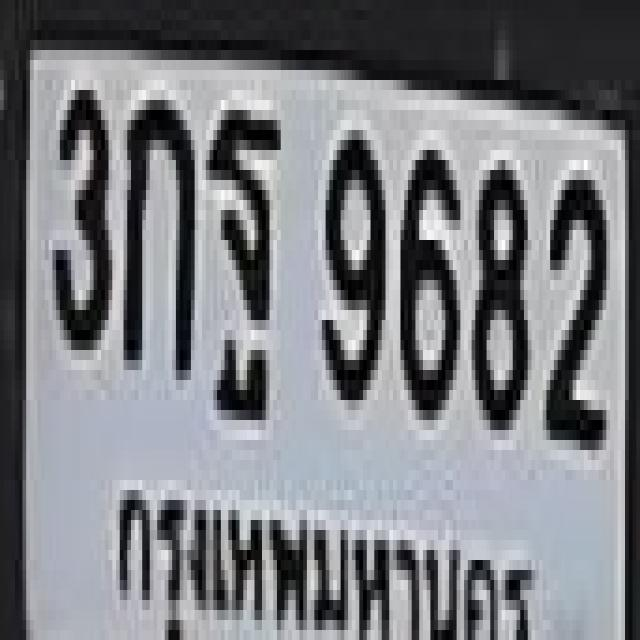-: (120, 90, 191, 370), (206, 100, 277, 380)
2: (542, 170, 602, 440)
3: (48, 80, 108, 340)
6: (396, 140, 456, 410)
8: (472, 150, 524, 420)
9: (318, 120, 382, 390)
BKK: (109, 458, 543, 640)
